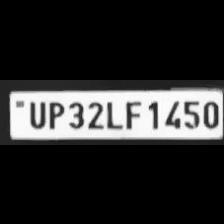0: (200, 97, 220, 127)
1: (142, 97, 160, 129)
2: (86, 98, 104, 128)
3: (65, 98, 85, 128)
4: (161, 96, 181, 128)
5: (179, 96, 199, 128)
F: (122, 97, 142, 128)
L: (102, 97, 122, 128)
P: (44, 98, 64, 128)
U: (24, 98, 46, 128)
